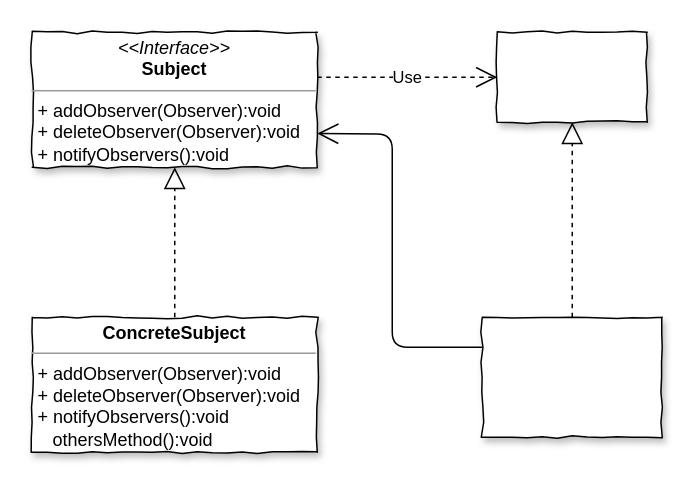
This 698x489 diagram has some shape labels left out. The centre of each missing label's shape, as x and y in pixels:
"<<Interface>> Observer + update(): void" goes at [573,79].
"ConcreteObserver subject: Subject + update(): void" goes at [573,379].
